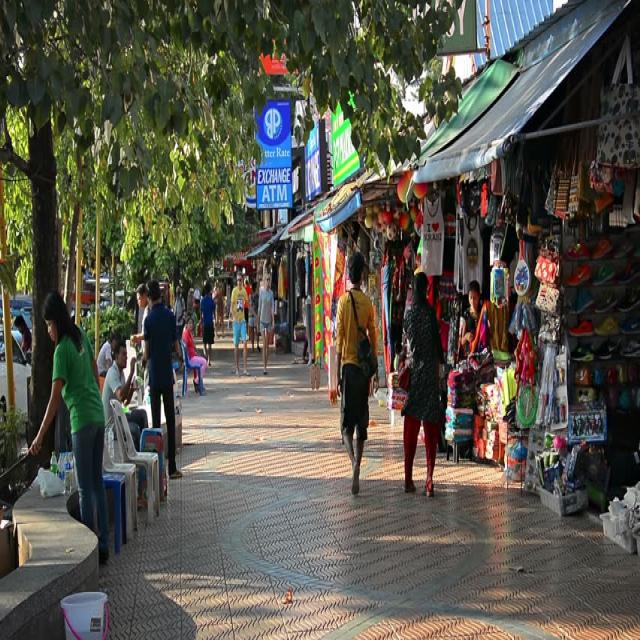body: (24, 285, 112, 568), (334, 250, 380, 498), (395, 270, 445, 498), (142, 279, 184, 480), (100, 337, 149, 452), (228, 270, 256, 378), (129, 281, 152, 392), (182, 315, 208, 393), (256, 271, 275, 376), (460, 278, 484, 358), (181, 314, 204, 386), (200, 280, 218, 368), (169, 284, 186, 361), (246, 280, 262, 353), (95, 331, 119, 378), (13, 314, 34, 354), (211, 280, 225, 340), (186, 280, 200, 308), (300, 327, 309, 364), (242, 268, 262, 283)
